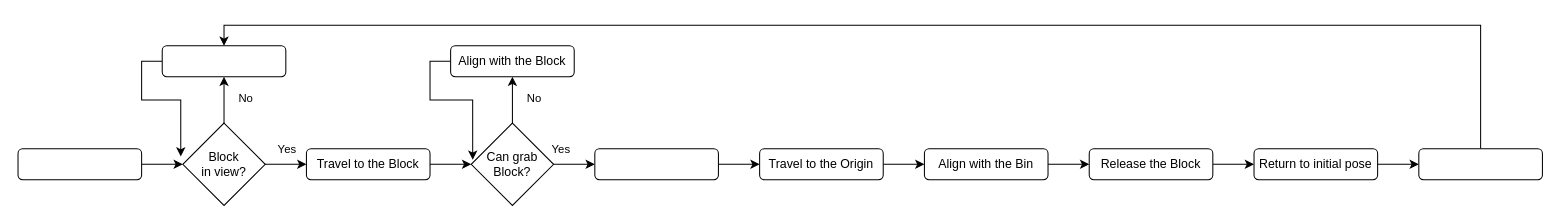
The diagram is 1560 pixels wide and 224 high, and some of its shapes have lost their labels. The shapes that lost their labels are listed below. From the top down, each one's centre as x and y in pixels, then its label:
At point 223,61: "Search for the Block".
At point 79,164: "Initialize the LocoBot".
At point 656,164: "Pickup the Block".
At point 1480,164: "Return to found pose".
